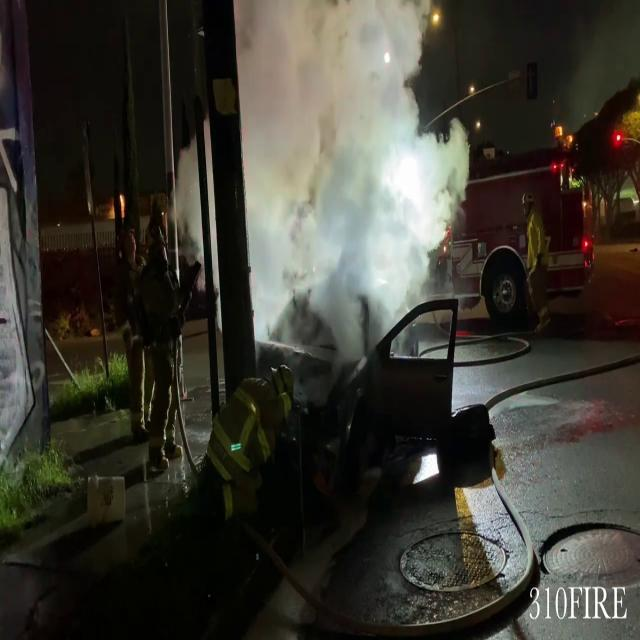Smoke: (246, 0, 469, 332)
